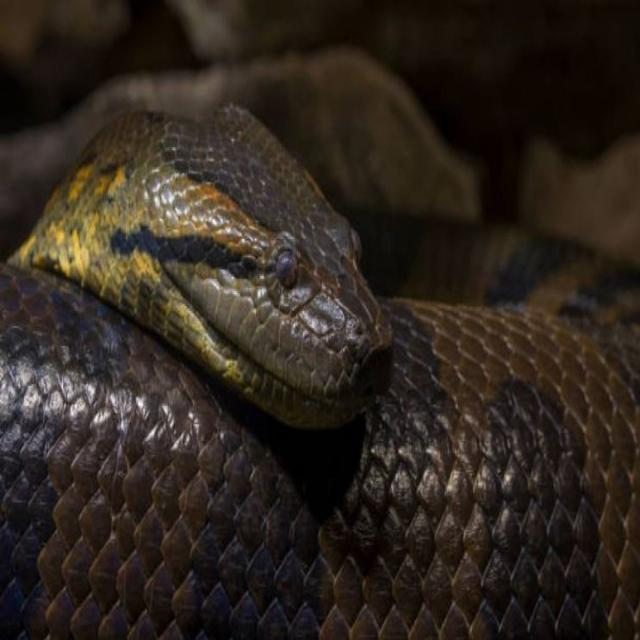Snake: (0, 20, 640, 634)
